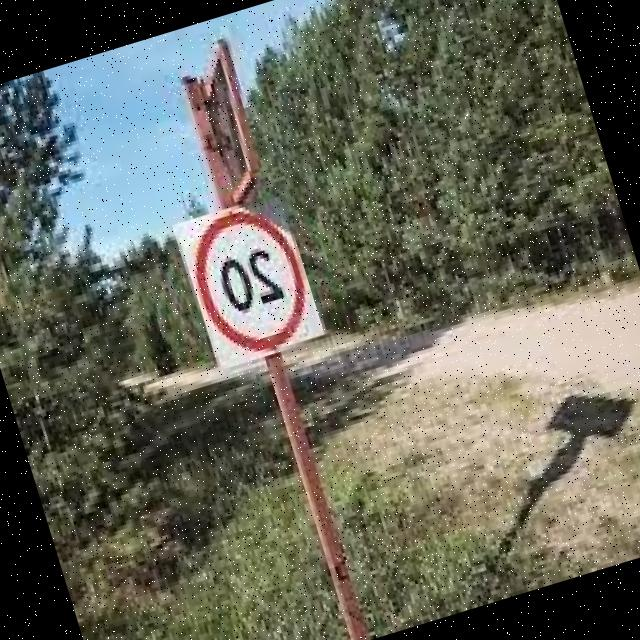speed_limit_20: (178, 196, 318, 367)
